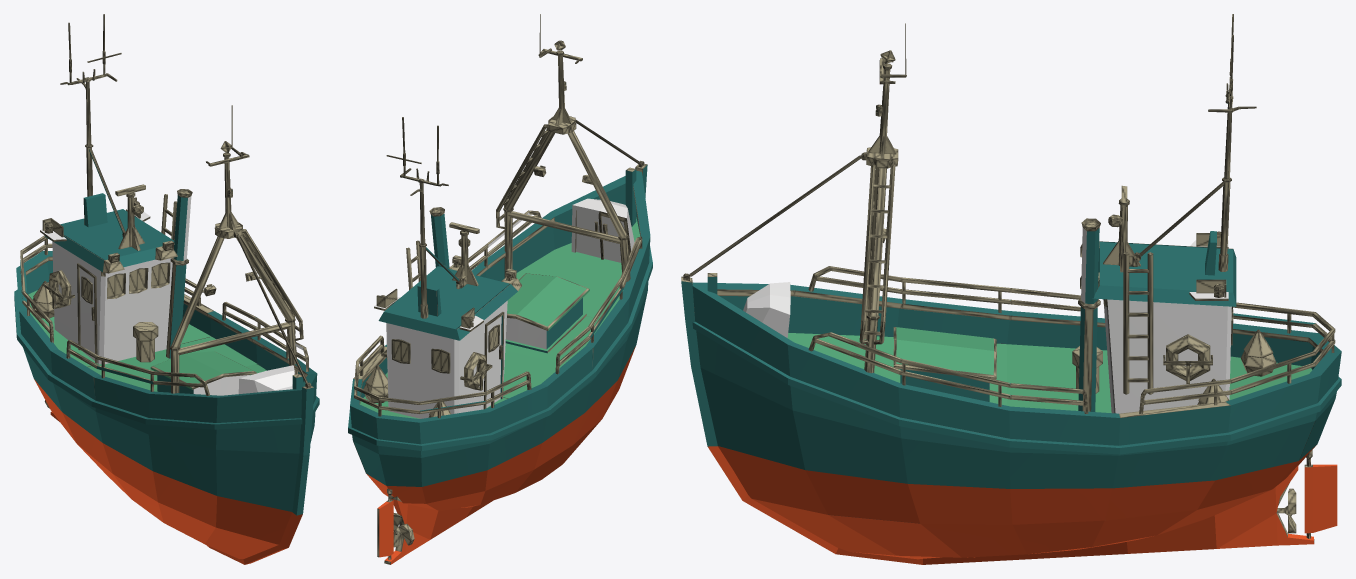
File: boat.obj
3 renders of one model, left to right at view 1: azimuth 30°, elevation 25°; view 2: azimuth 150°, elevation 25°; view 3: azimuth 270°, elevation 25°, orthographic. The views are drawn at different scales.
Parts seen in each view (by area): view 1: Rudder_Boat_2_0; view 2: Rudder_Boat_2_0; view 3: Rudder_Boat_2_0.
Boxes of the visible parts, bbox=[...] form: Rudder_Boat_2_0: bbox=[14, 14, 319, 564]; Rudder_Boat_2_0: bbox=[348, 14, 652, 564]; Rudder_Boat_2_0: bbox=[681, 14, 1341, 564].
Bounding box in the file's own units: 11.47 × 28.36 × 31.03.
Materials: 1 (1 with a texture image).
